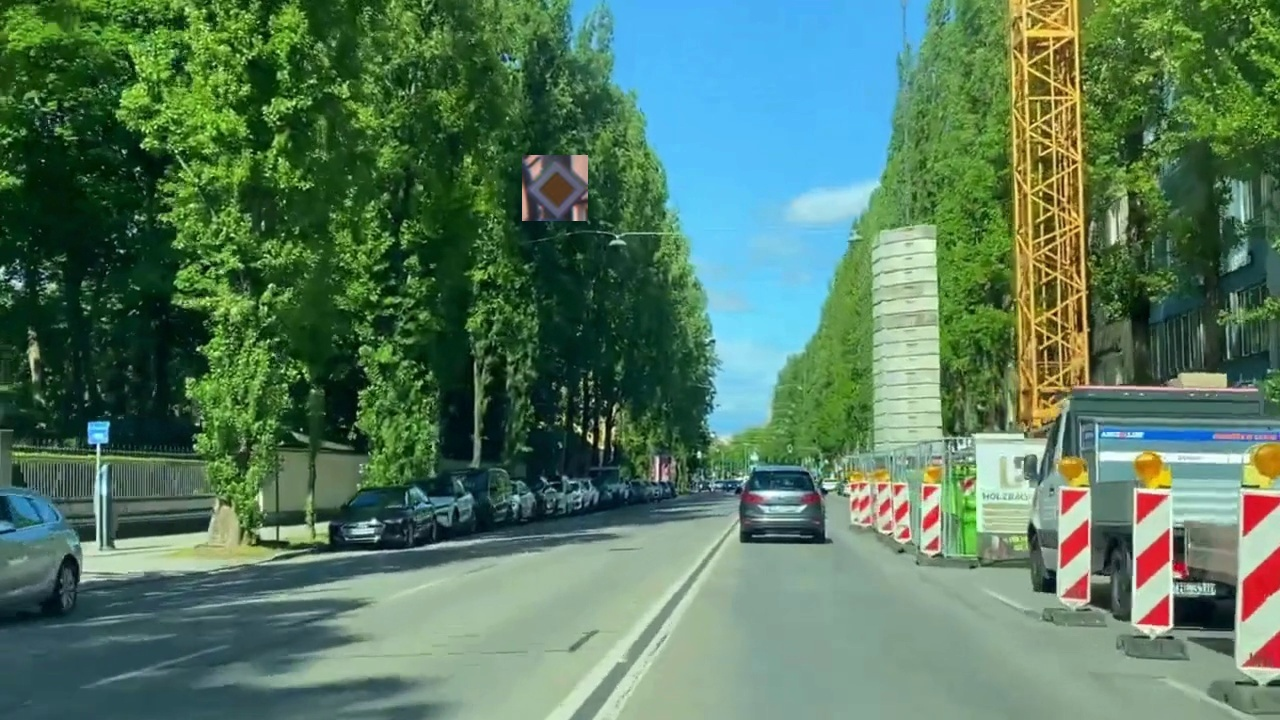Priority road: (522, 155, 588, 221)
